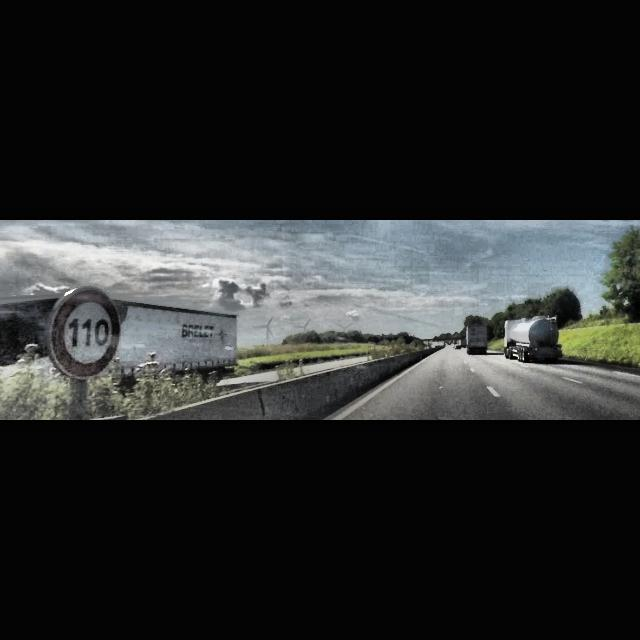speed_110: (54, 286, 120, 376)
